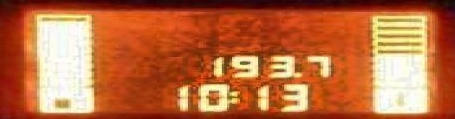-: (291, 70, 302, 78)
0: (193, 82, 227, 112)
1: (169, 82, 190, 111), (250, 82, 268, 111), (206, 54, 224, 77)
3: (273, 81, 310, 112), (263, 53, 291, 77)
7: (302, 53, 330, 77)
9: (227, 53, 258, 78)
X: (226, 88, 237, 105)
